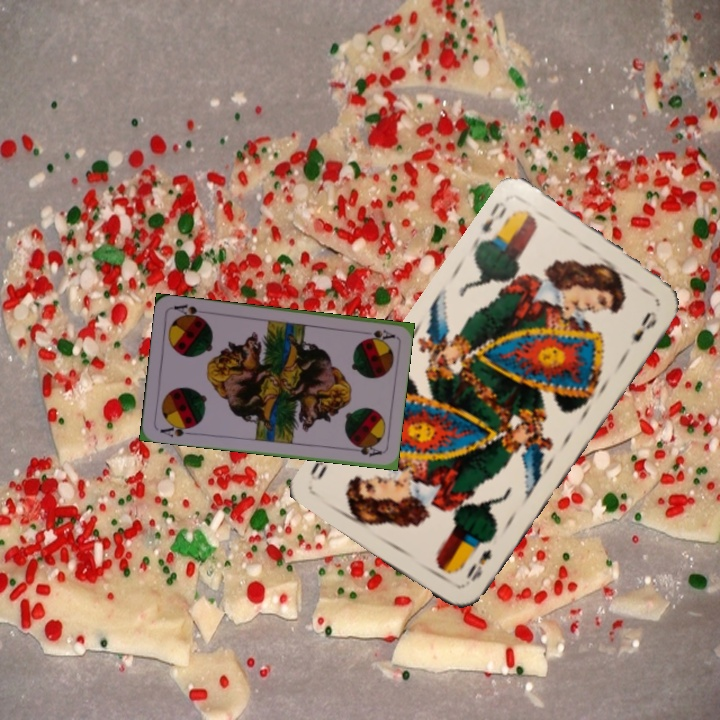EO: (471, 197, 514, 246), (461, 545, 494, 584)
SA: (156, 419, 196, 440), (363, 325, 397, 343)
